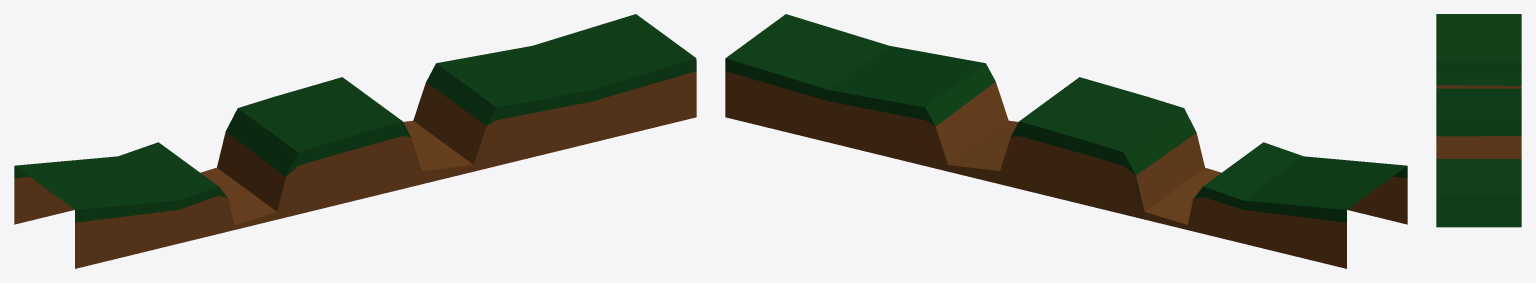
Rendered from terreno1.fbx.
3 views of the same model, side by side, from view 1: azimuth 30°, elevation 25°; view 2: azimuth 150°, elevation 25°; view 3: azimuth 270°, elevation 25° (orthographic). The views are drawn at different scales.
Parts seen in each view (by area): view 1: terreno01; view 2: terreno01; view 3: terreno01.
Boxes of the visible parts, x1=… form: terreno01: x1=14, y1=14, x2=696, y2=268; terreno01: x1=725, y1=14, x2=1407, y2=268; terreno01: x1=1436, y1=14, x2=1521, y2=227.
Bounding box in the file's own units: 2203 × 229 × 372.
